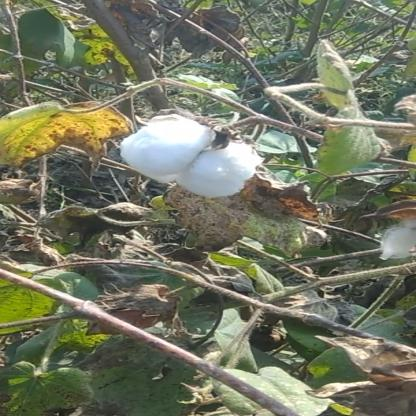cotton_ready: (116, 113, 276, 202)
